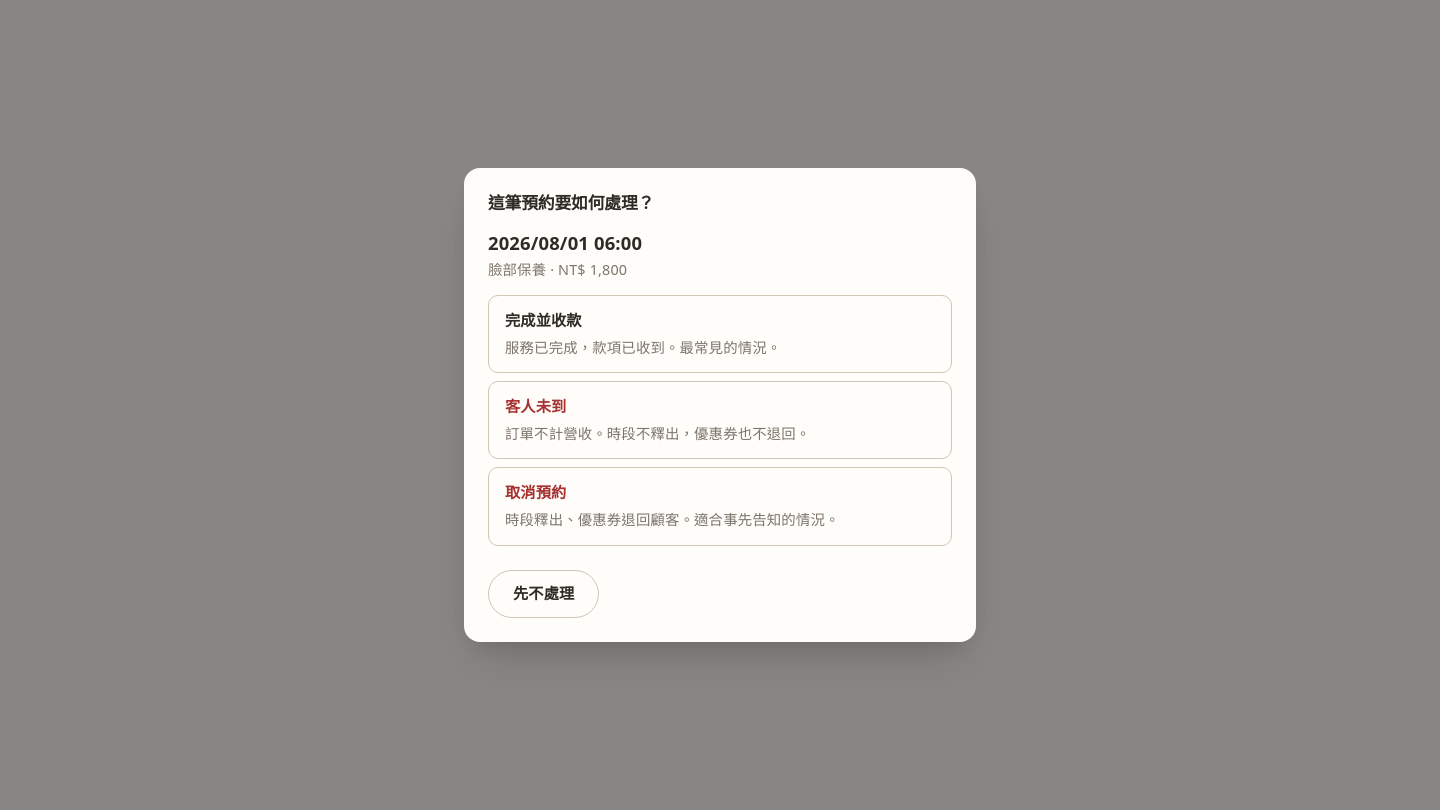
Test: 後果說明 › 取消明講優惠券會退回，與未到相反
Click the button "取消預約 時段釋出、優惠券退回顧客。適合事先告知的情況。": x=536, y=492 [488,468,952,546]
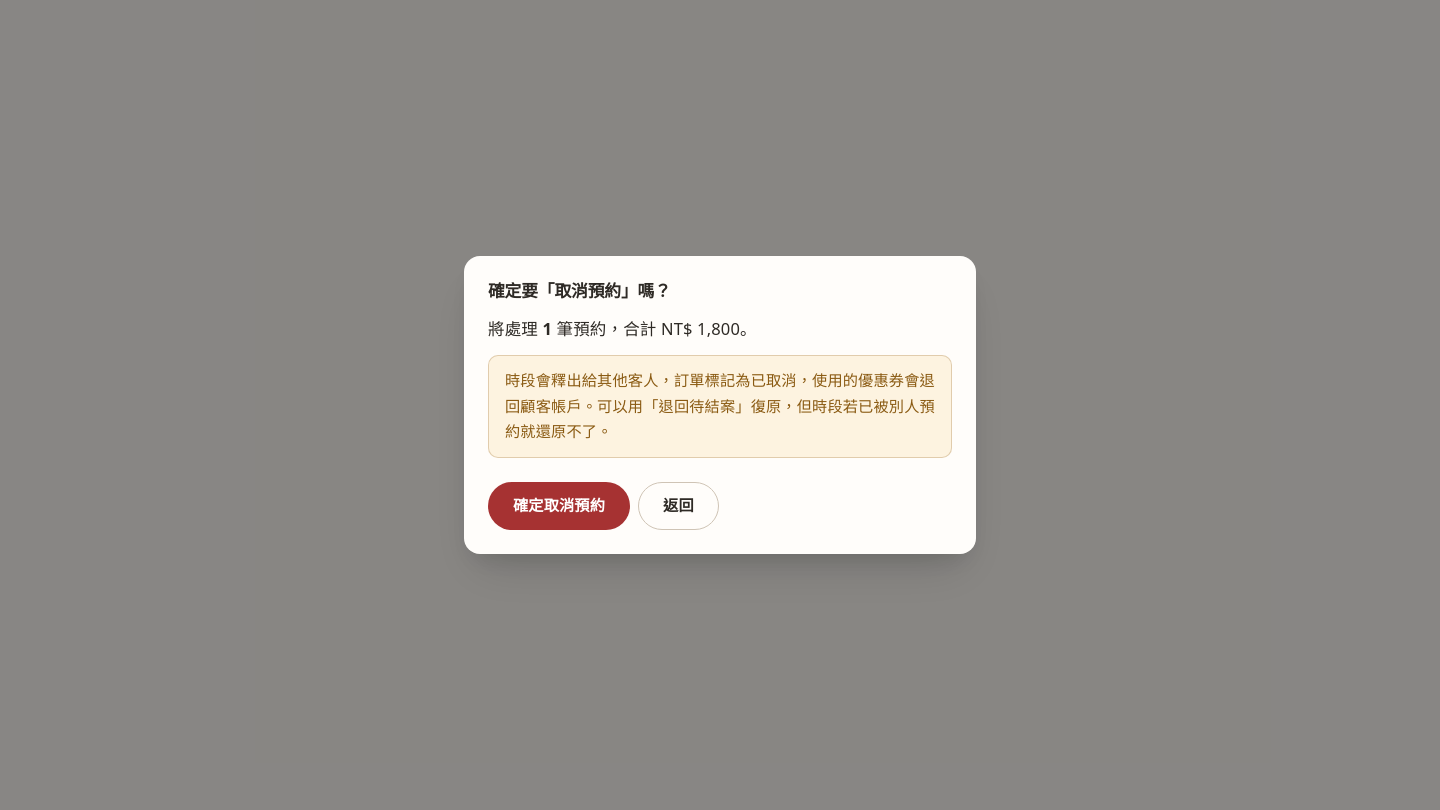
Expected: the text "優惠券會退回顧客帳戶" is shown, [505,370,935,441]
